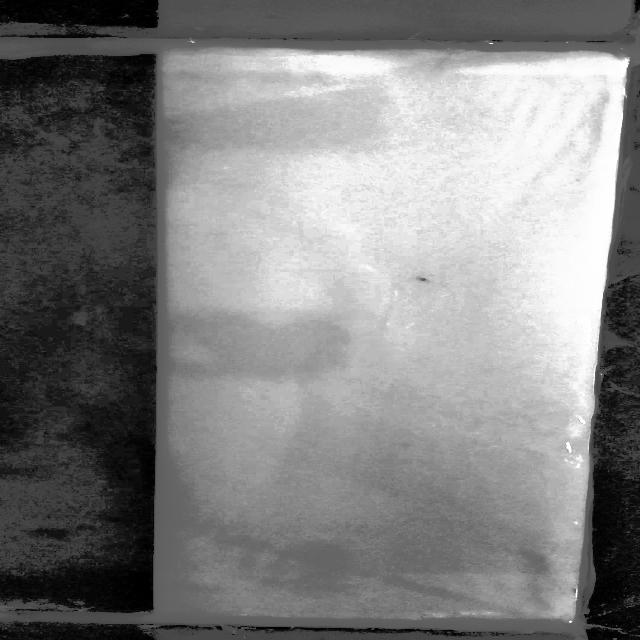shrimp: (410, 274, 438, 284)
